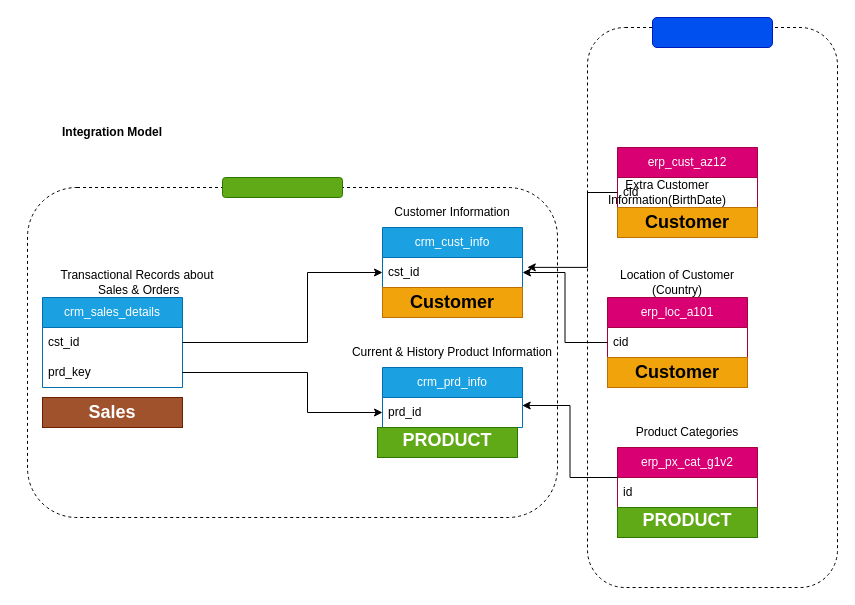
Image size: 855x605. Some labels were removed from this diagram. The shapes that lost their labels are listed below. From the top down, each one's centre as x and y in pixels, then its label:
the point at 712,32: ERP
the point at 282,187: CRM
